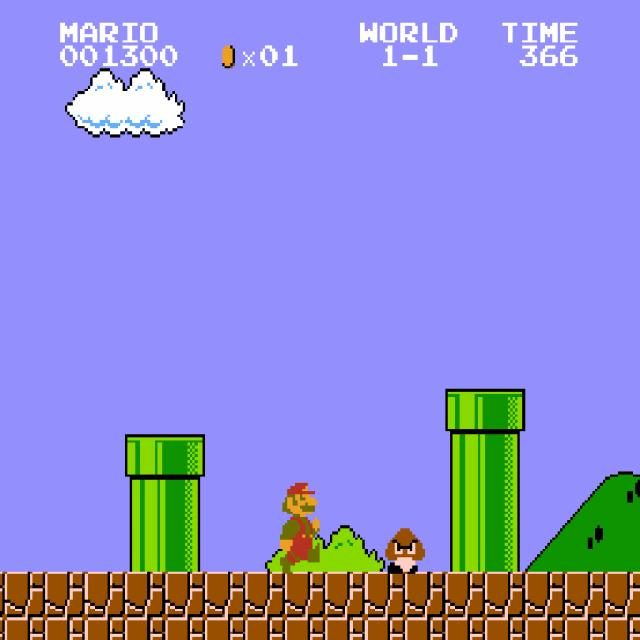big_mario: (277, 480, 320, 574)
goomba: (383, 526, 425, 574)
pipe: (125, 480, 165, 526), (165, 480, 205, 526), (445, 434, 485, 480), (445, 480, 485, 526), (485, 434, 525, 480), (485, 480, 525, 526), (125, 526, 165, 571), (165, 526, 205, 571), (445, 526, 485, 571), (485, 526, 525, 571)
pipe_head: (125, 434, 165, 480), (165, 434, 205, 480), (445, 389, 485, 434), (485, 389, 525, 434)
undestructible_block: (5, 572, 45, 617), (45, 572, 85, 617), (85, 572, 125, 617), (125, 572, 165, 617), (165, 572, 205, 617), (205, 572, 245, 617), (245, 572, 285, 617), (285, 572, 325, 617), (325, 572, 365, 617), (365, 572, 405, 617), (405, 572, 445, 617), (445, 572, 485, 617), (485, 572, 525, 617), (525, 572, 565, 617), (565, 572, 605, 617), (605, 572, 640, 617), (5, 617, 45, 640), (45, 617, 85, 640), (85, 617, 125, 640), (125, 617, 165, 640), (165, 617, 205, 640), (205, 617, 245, 640), (245, 617, 285, 640), (285, 617, 325, 640), (325, 617, 365, 640), (365, 617, 405, 640), (405, 617, 445, 640), (445, 617, 485, 640), (485, 617, 525, 640), (525, 617, 565, 640), (565, 617, 605, 640), (605, 617, 640, 640), (0, 572, 5, 617), (0, 617, 5, 640)
